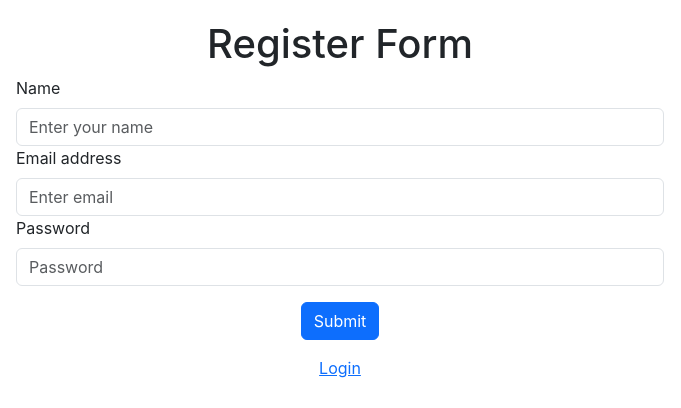
Test: Register component › displays validation error if name is missing
What coordinates should you click on to do the following:
click the button "Submit"
I would click on:
 (340, 321)
Its box is [301,302,379,340].
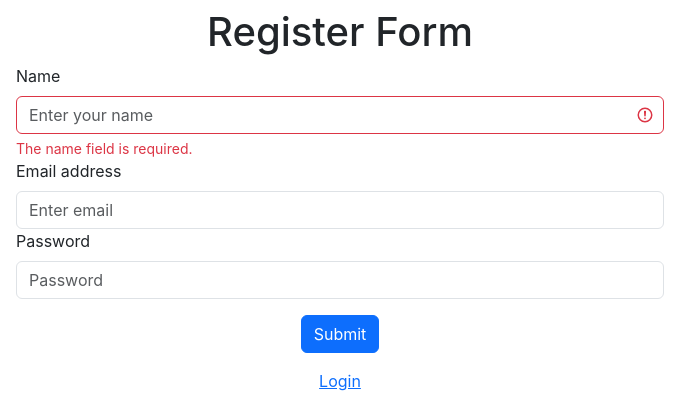
Result: the text "The name field is required." is shown at [16,140,192,156]
